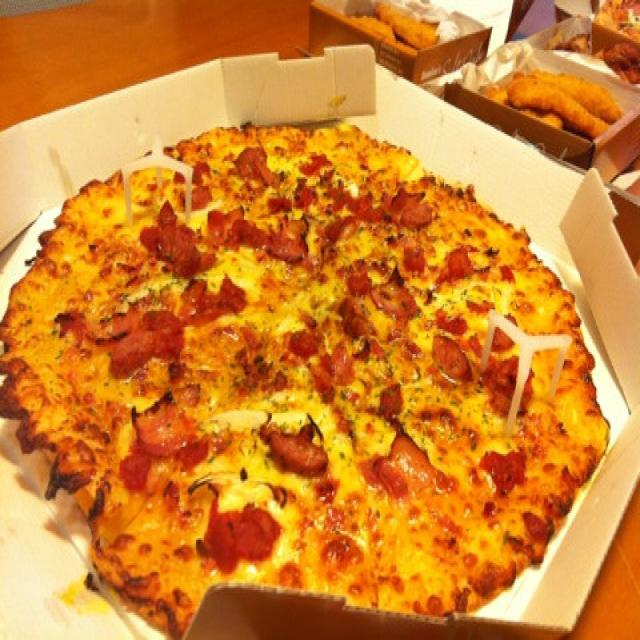Wet Waste: (0, 104, 617, 628)
